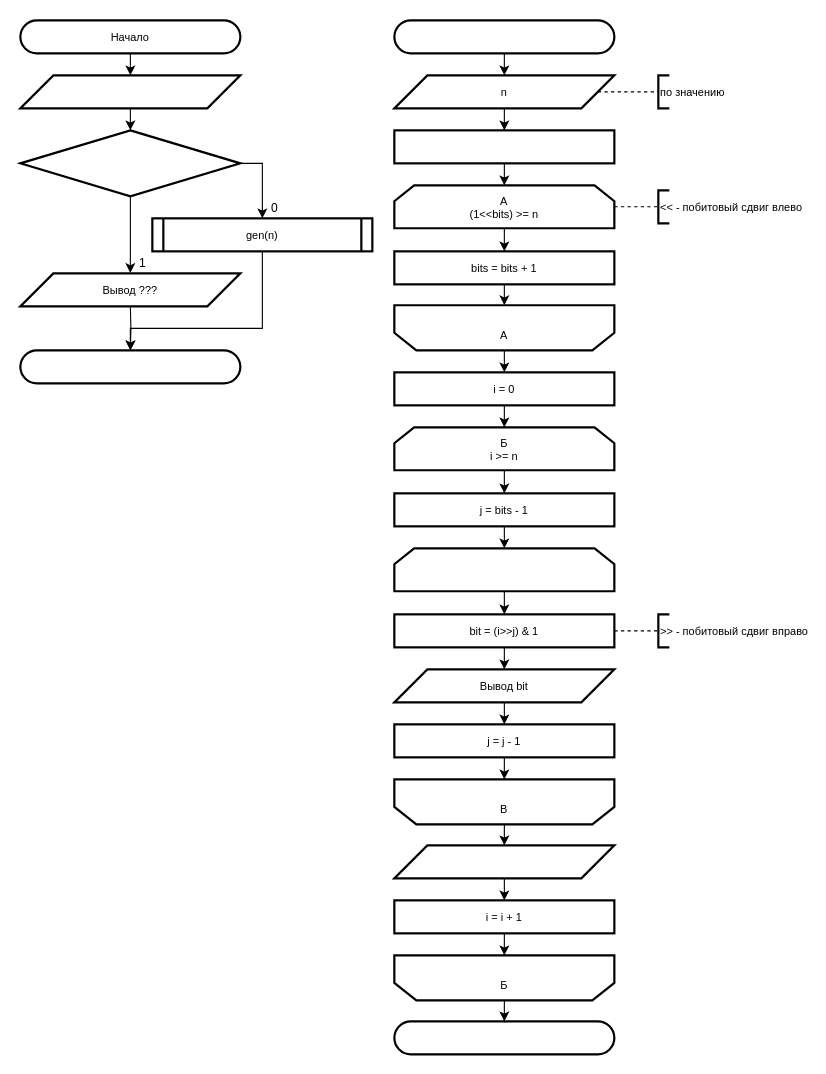
The diagram is 826 pixels wide and 1074 high, and some of its shapes have lost their labels. Each missing label, with the centre of its shape:
bits = 0: the point at 504,146
n <= 0: the point at 130,163
В j < 0: the point at 504,569
Ввод n: the point at 130,91
Вывод " ": the point at 504,861
Конец: the point at 130,366
Конец gen: the point at 504,1037
Начало gen: the point at 504,36
